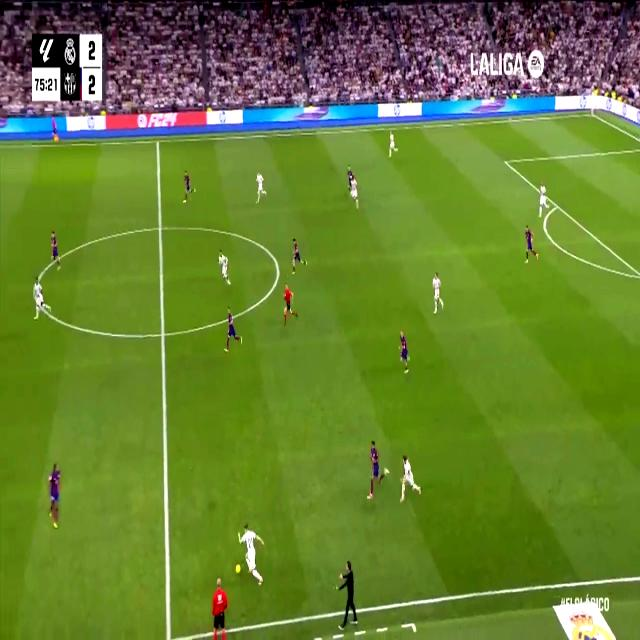bigarea_top_inner: (501, 154, 509, 168)
corner: (588, 109, 596, 119)
halfcircle_bottom: (157, 318, 169, 349)
halfcircle_top: (154, 212, 166, 242)
midline_top_intersection: (154, 134, 162, 150)
top_arc_area_intersection: (553, 197, 560, 213)
